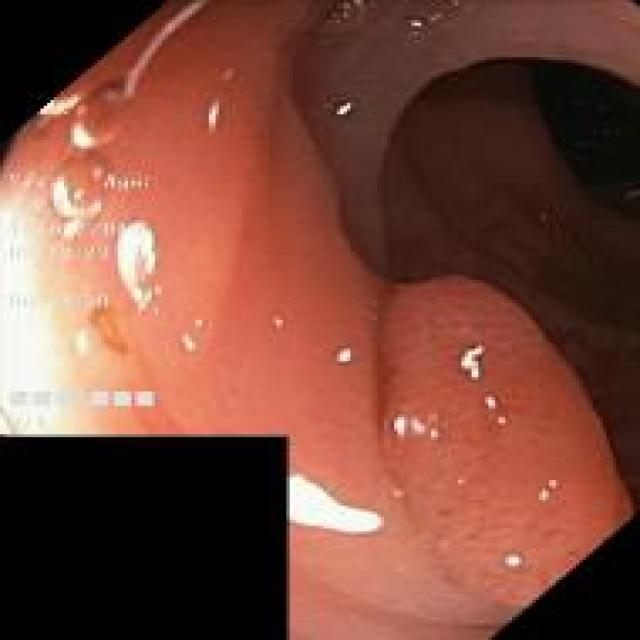Polyps: (383, 278, 631, 611)
